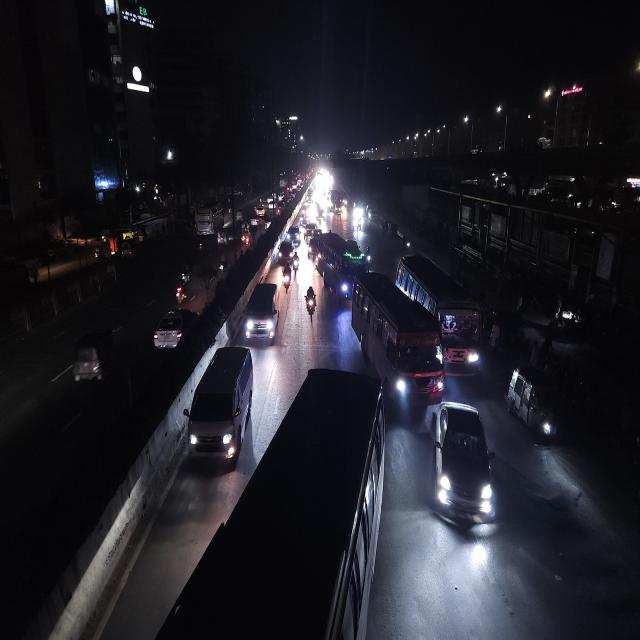bus: (262, 368, 386, 640), (349, 268, 445, 408), (394, 249, 484, 376), (318, 232, 366, 305), (193, 202, 225, 236)
car: (430, 398, 497, 539), (185, 344, 256, 470), (504, 361, 561, 451), (242, 278, 282, 347), (152, 305, 200, 356), (276, 240, 296, 266), (286, 224, 302, 246)
cng: (71, 324, 117, 394)
motorcycle: (173, 260, 193, 300), (304, 283, 318, 322), (281, 262, 293, 294), (218, 250, 230, 278), (364, 245, 374, 270), (403, 234, 413, 253)
